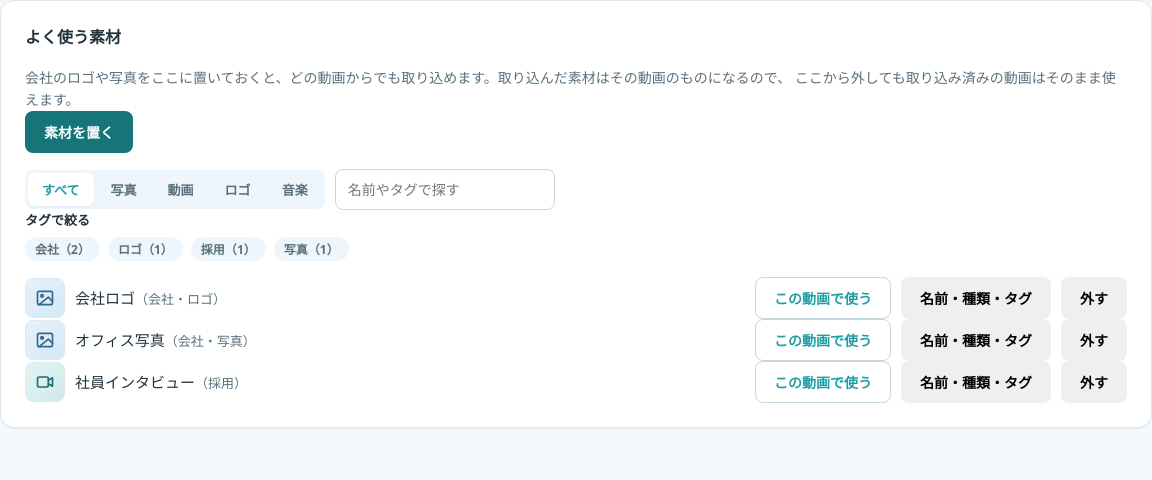
Test: AssetLibraryPanel › 会社の見た目のロゴを外すと、そちらの覚えも外して知らせる
Expected: the text "会社ロゴ" is shown, left=75, top=288, right=135, bottom=308
Click the button "外す" in the row of "会社ロゴ".
click(1094, 298)  # box left=1061, top=277, right=1127, bottom=319
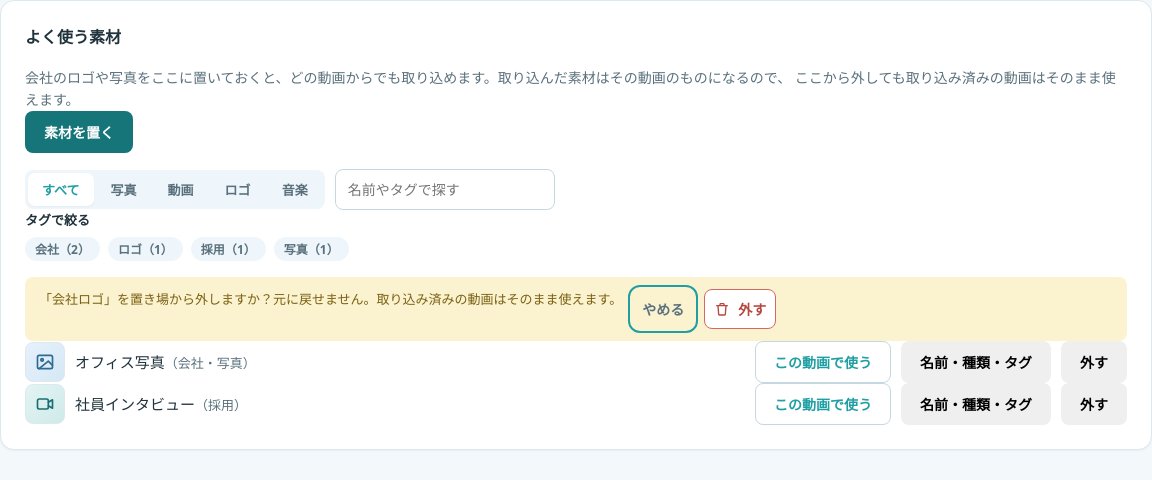
// ⚠️ **確認を通す**（🟡27）＝1クリックでは消えない。確認の中の「外す」を押す。
Click the 1st button "外す".
click(740, 309)  # box left=704, top=289, right=776, bottom=329
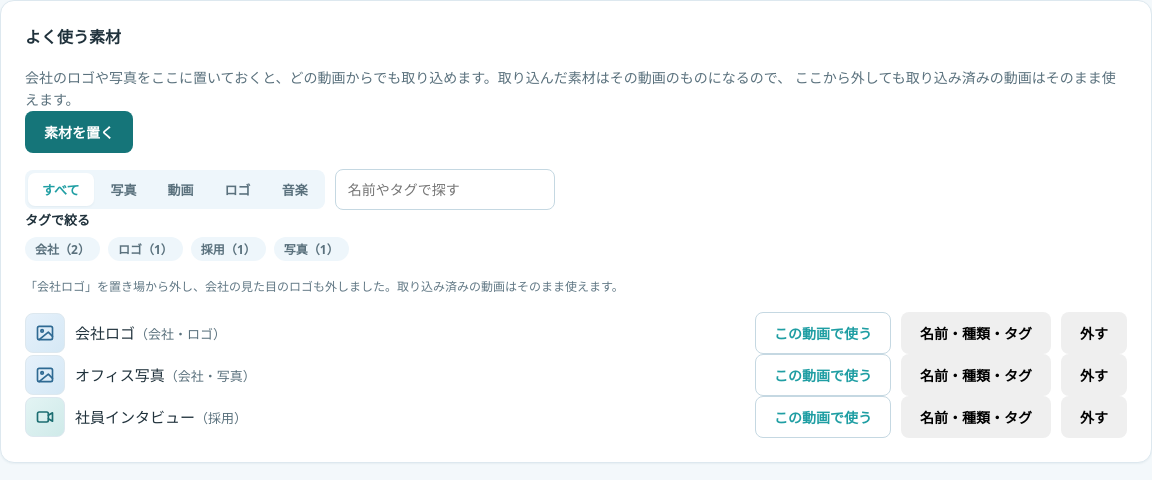
Expected: the text "「会社ロゴ」を置き場から外し、会社の見た目のロゴも外しました。取り込み済みの動画はそのまま使えます。" is shown, left=25, top=278, right=624, bottom=295
